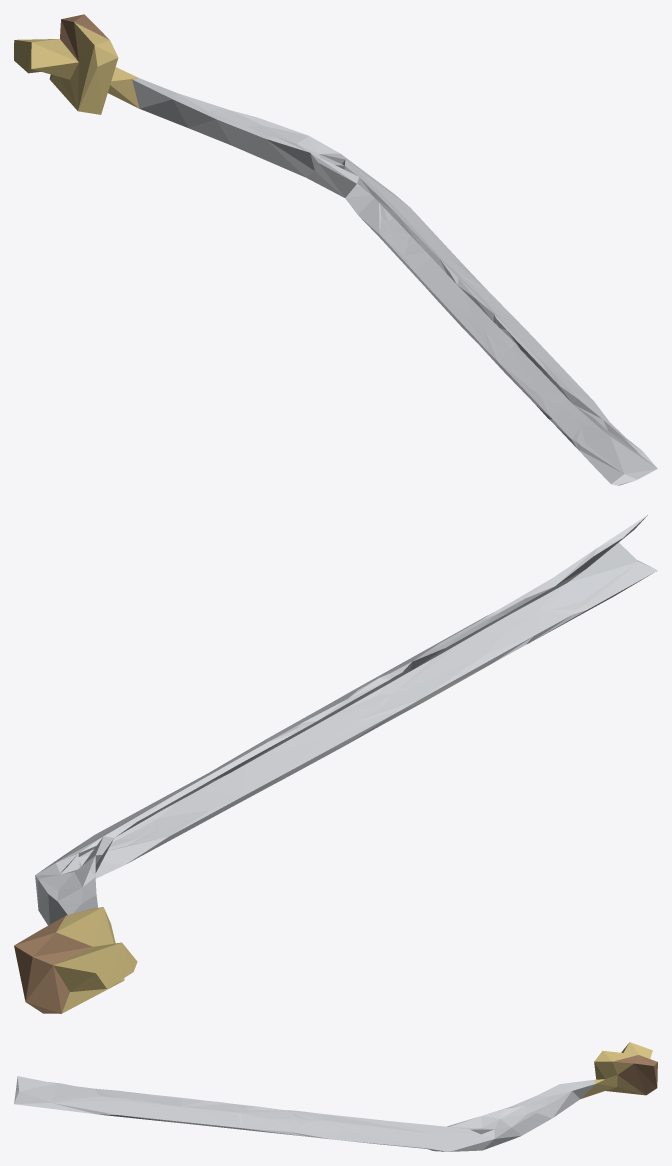
File: gladius.glb
3 views of the same model, one above another, from view 1: azimuth 30°, elevation 25°; view 2: azimuth 150°, elevation 25°; view 3: azimuth 270°, elevation 25° (orthographic). The views are drawn at different scales.
Parts seen in each view (by area): view 1: gladius; view 2: gladius; view 3: gladius.
Part boxes in pixels (bbox=[...]): gladius: bbox=[14, 14, 657, 485]; gladius: bbox=[14, 514, 657, 1013]; gladius: bbox=[14, 1042, 657, 1151].
Size of the model in its own units: 0.1991 by 0.086 by 0.8942.
